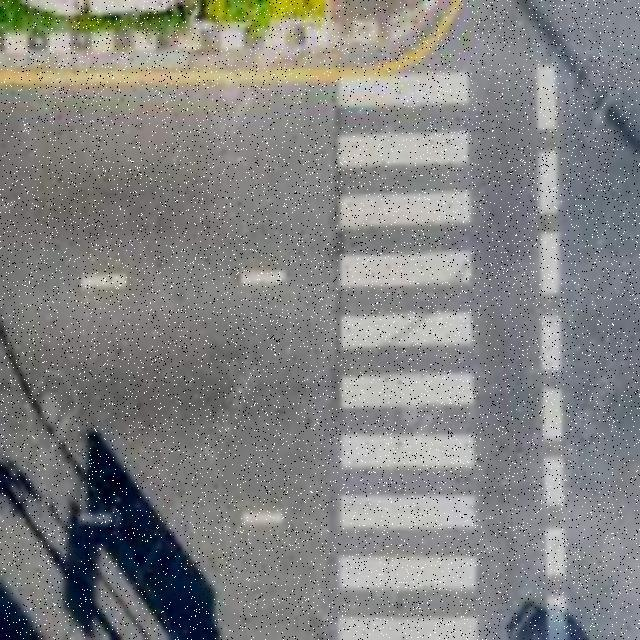Pedestrian crosswalk: (317, 57, 511, 637)
